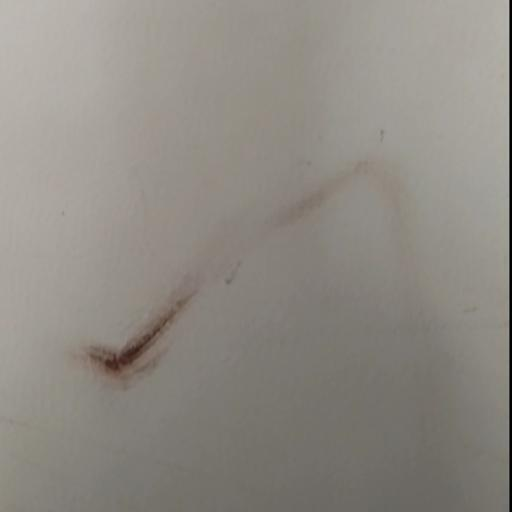stain: (67, 137, 467, 406)
